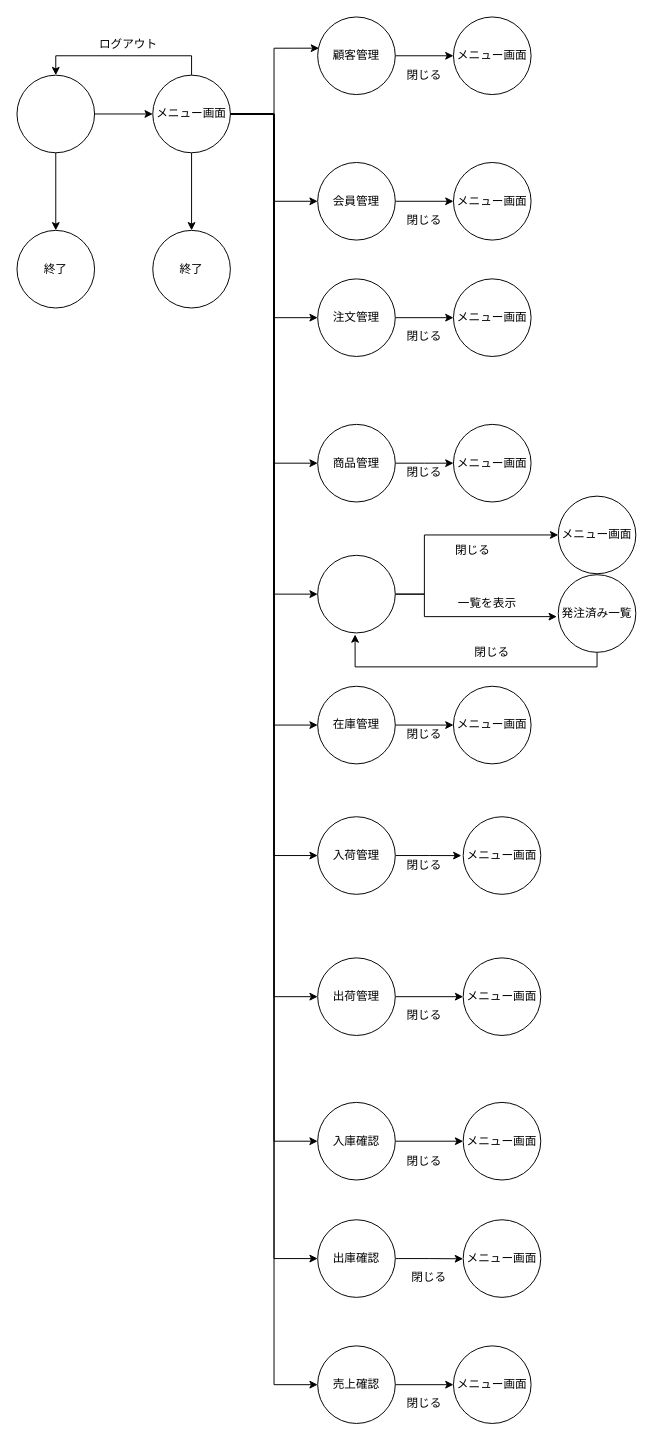
Image size: 653x1440. Some labels were removed from this diagram. Here are the shapes that lost their labels. From the top down, the centre of each, then its label:
(55,113): ログイン
(356,593): 発注確認
